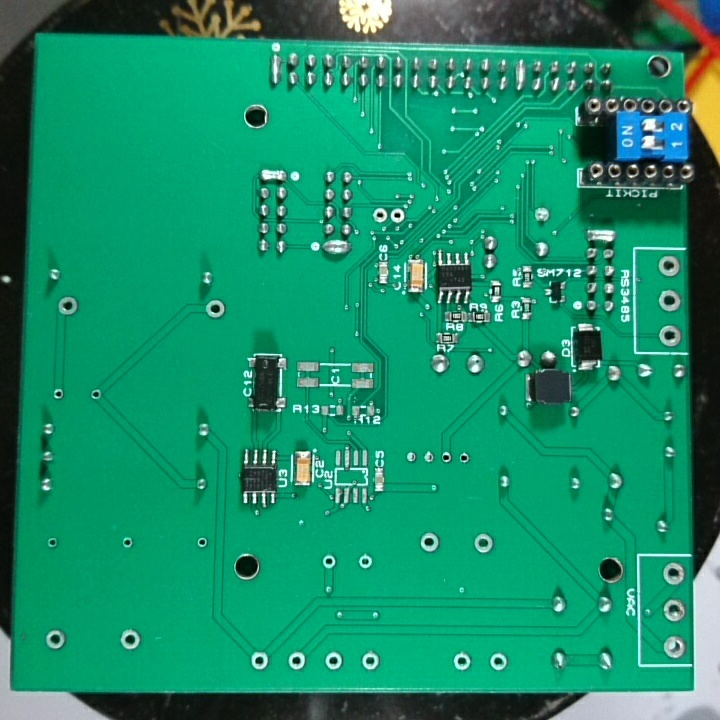F: (661, 595, 690, 626), (659, 558, 687, 589), (41, 625, 69, 655), (118, 626, 144, 657), (660, 630, 686, 660), (53, 292, 80, 320), (654, 252, 681, 280), (449, 649, 475, 678), (471, 528, 495, 559), (416, 527, 440, 557), (657, 323, 684, 349), (201, 295, 225, 322), (359, 647, 383, 674), (486, 649, 511, 674), (656, 288, 682, 312), (284, 648, 309, 672), (247, 650, 272, 672), (356, 549, 376, 575), (533, 200, 553, 226), (323, 649, 344, 673), (321, 550, 341, 572), (370, 204, 388, 224), (438, 447, 454, 469), (87, 386, 105, 405), (456, 448, 473, 468), (404, 446, 419, 468), (118, 534, 136, 552), (389, 205, 405, 225), (421, 448, 436, 469), (193, 534, 209, 553), (50, 386, 66, 403), (44, 535, 60, 551)
P: (581, 224, 620, 244), (321, 237, 351, 259), (267, 51, 284, 89), (257, 165, 289, 183), (512, 57, 527, 95)
